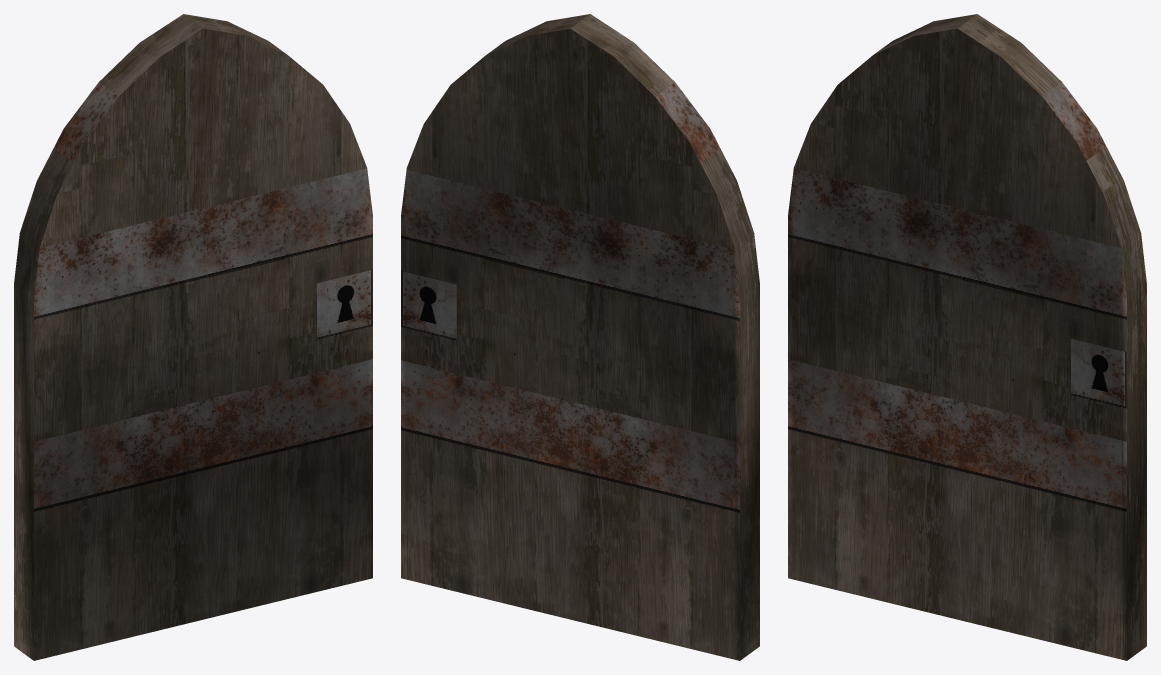
File: Door.fbx
3 renders of one model, left to right at view 1: azimuth 30°, elevation 25°; view 2: azimuth 150°, elevation 25°; view 3: azimuth 330°, elevation 25°, orthographic.
Visible parts, largest first — view 1: Wall_B; view 2: Wall_B; view 3: Wall_B.
Boxes of the visible parts, bbox=[...] form: Wall_B: bbox=[14, 14, 372, 660]; Wall_B: bbox=[401, 14, 759, 660]; Wall_B: bbox=[788, 14, 1146, 660].
Size of the model in its own units: 197 by 328 by 20.
